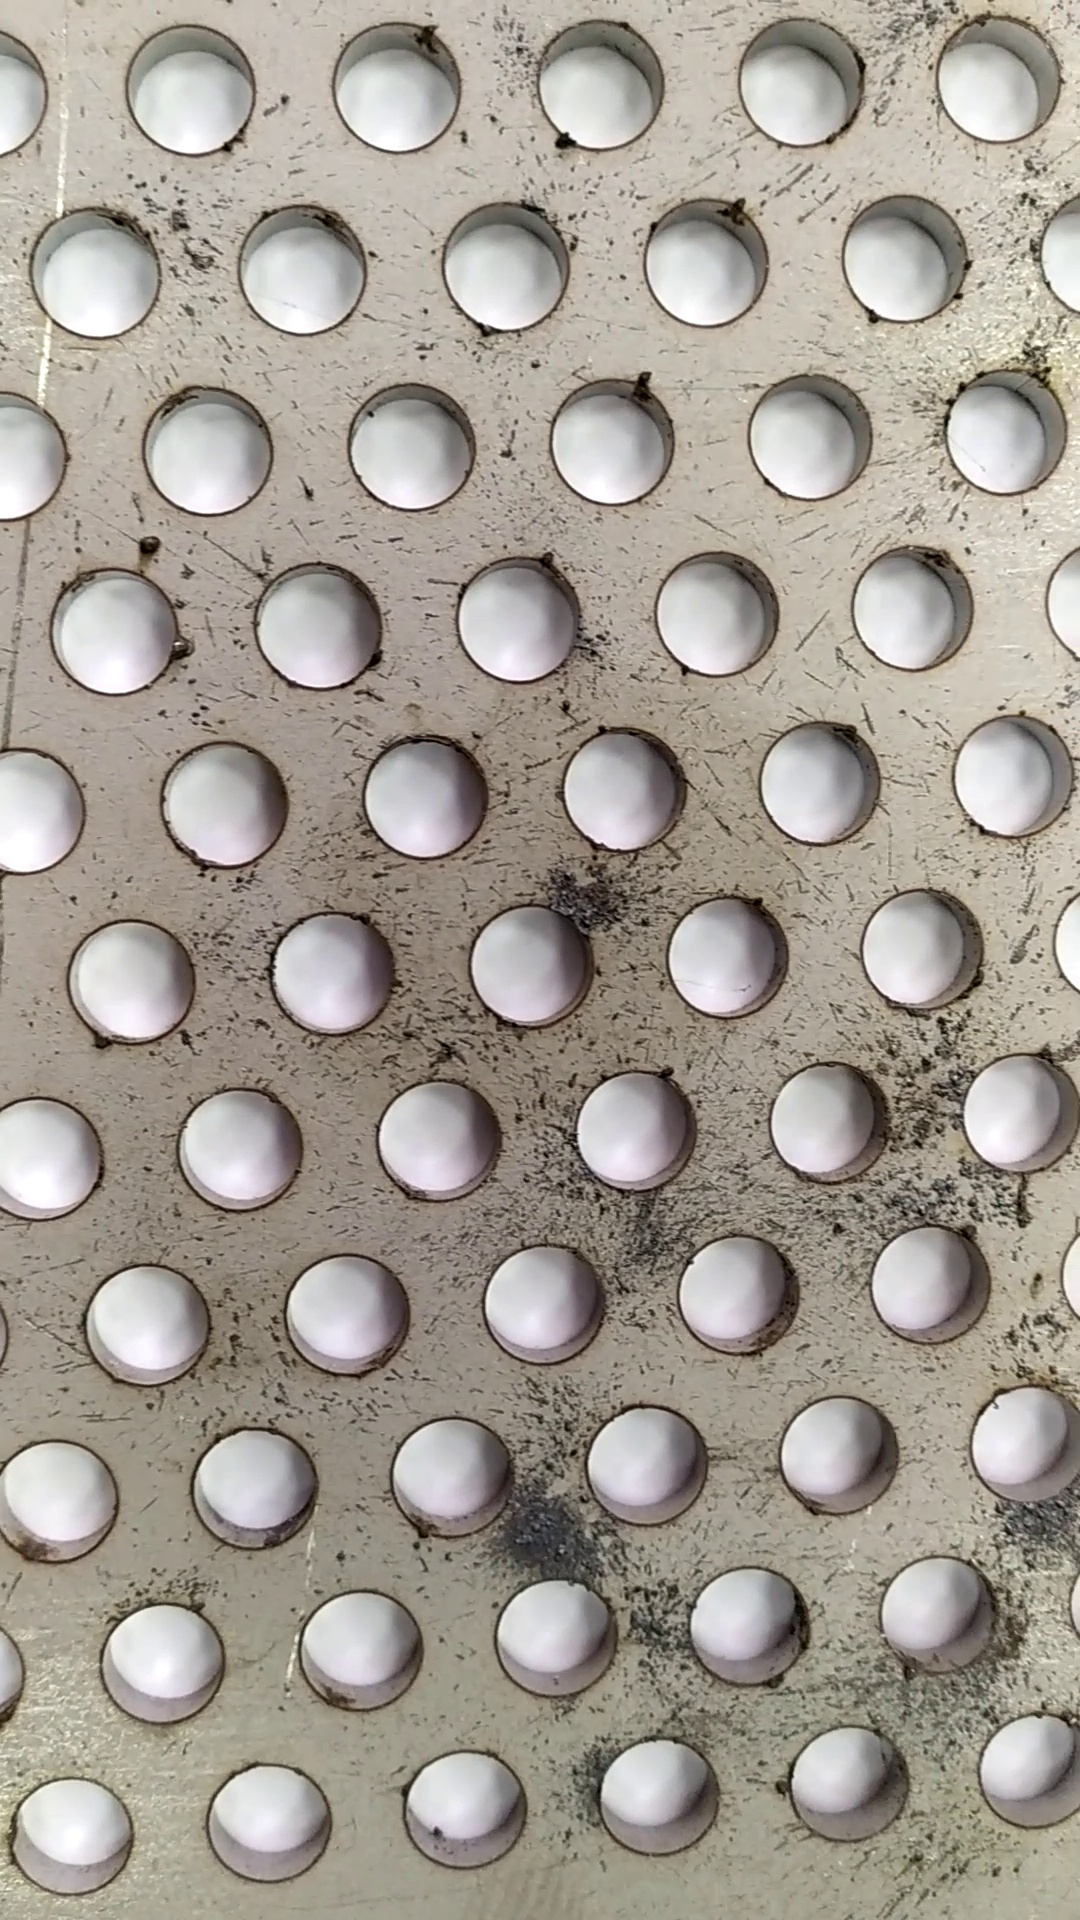Hole: (104, 7, 281, 166), (12, 189, 183, 345), (429, 193, 591, 348), (173, 1419, 349, 1556), (65, 1247, 224, 1399), (579, 1727, 736, 1879), (280, 1578, 440, 1726), (522, 11, 680, 160), (191, 1753, 353, 1895), (840, 531, 998, 676), (438, 541, 593, 687), (326, 13, 483, 158), (936, 356, 1079, 513), (336, 371, 485, 520), (865, 1545, 1015, 1693), (538, 368, 698, 506), (644, 553, 806, 688), (45, 556, 193, 705), (396, 1738, 543, 1887), (724, 11, 869, 162), (132, 378, 285, 522), (365, 1071, 522, 1211), (284, 1238, 418, 1400), (628, 191, 781, 334), (473, 1228, 622, 1373), (574, 1393, 727, 1534), (247, 558, 394, 703), (258, 901, 404, 1048), (454, 891, 603, 1034), (745, 711, 895, 852), (833, 183, 978, 328), (736, 368, 887, 506), (146, 736, 291, 880), (773, 1713, 916, 1858), (669, 1226, 818, 1366), (855, 1213, 1006, 1350), (232, 191, 371, 340), (164, 1079, 313, 1217), (938, 702, 1080, 844), (847, 880, 992, 1019), (922, 7, 1065, 146), (353, 724, 498, 862), (385, 1407, 524, 1552), (553, 713, 694, 855), (59, 911, 204, 1048), (483, 1571, 632, 1702), (11, 1768, 152, 1907), (663, 884, 798, 1029), (676, 1557, 814, 1698), (567, 1065, 704, 1201), (765, 1389, 905, 1522), (953, 1040, 1080, 1187), (760, 1052, 895, 1185), (96, 1600, 228, 1724)
